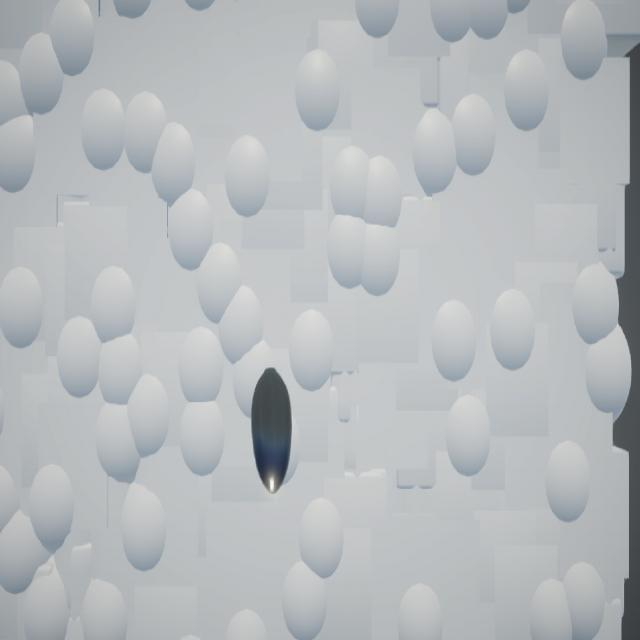top_spoon: (252, 368, 293, 495)
